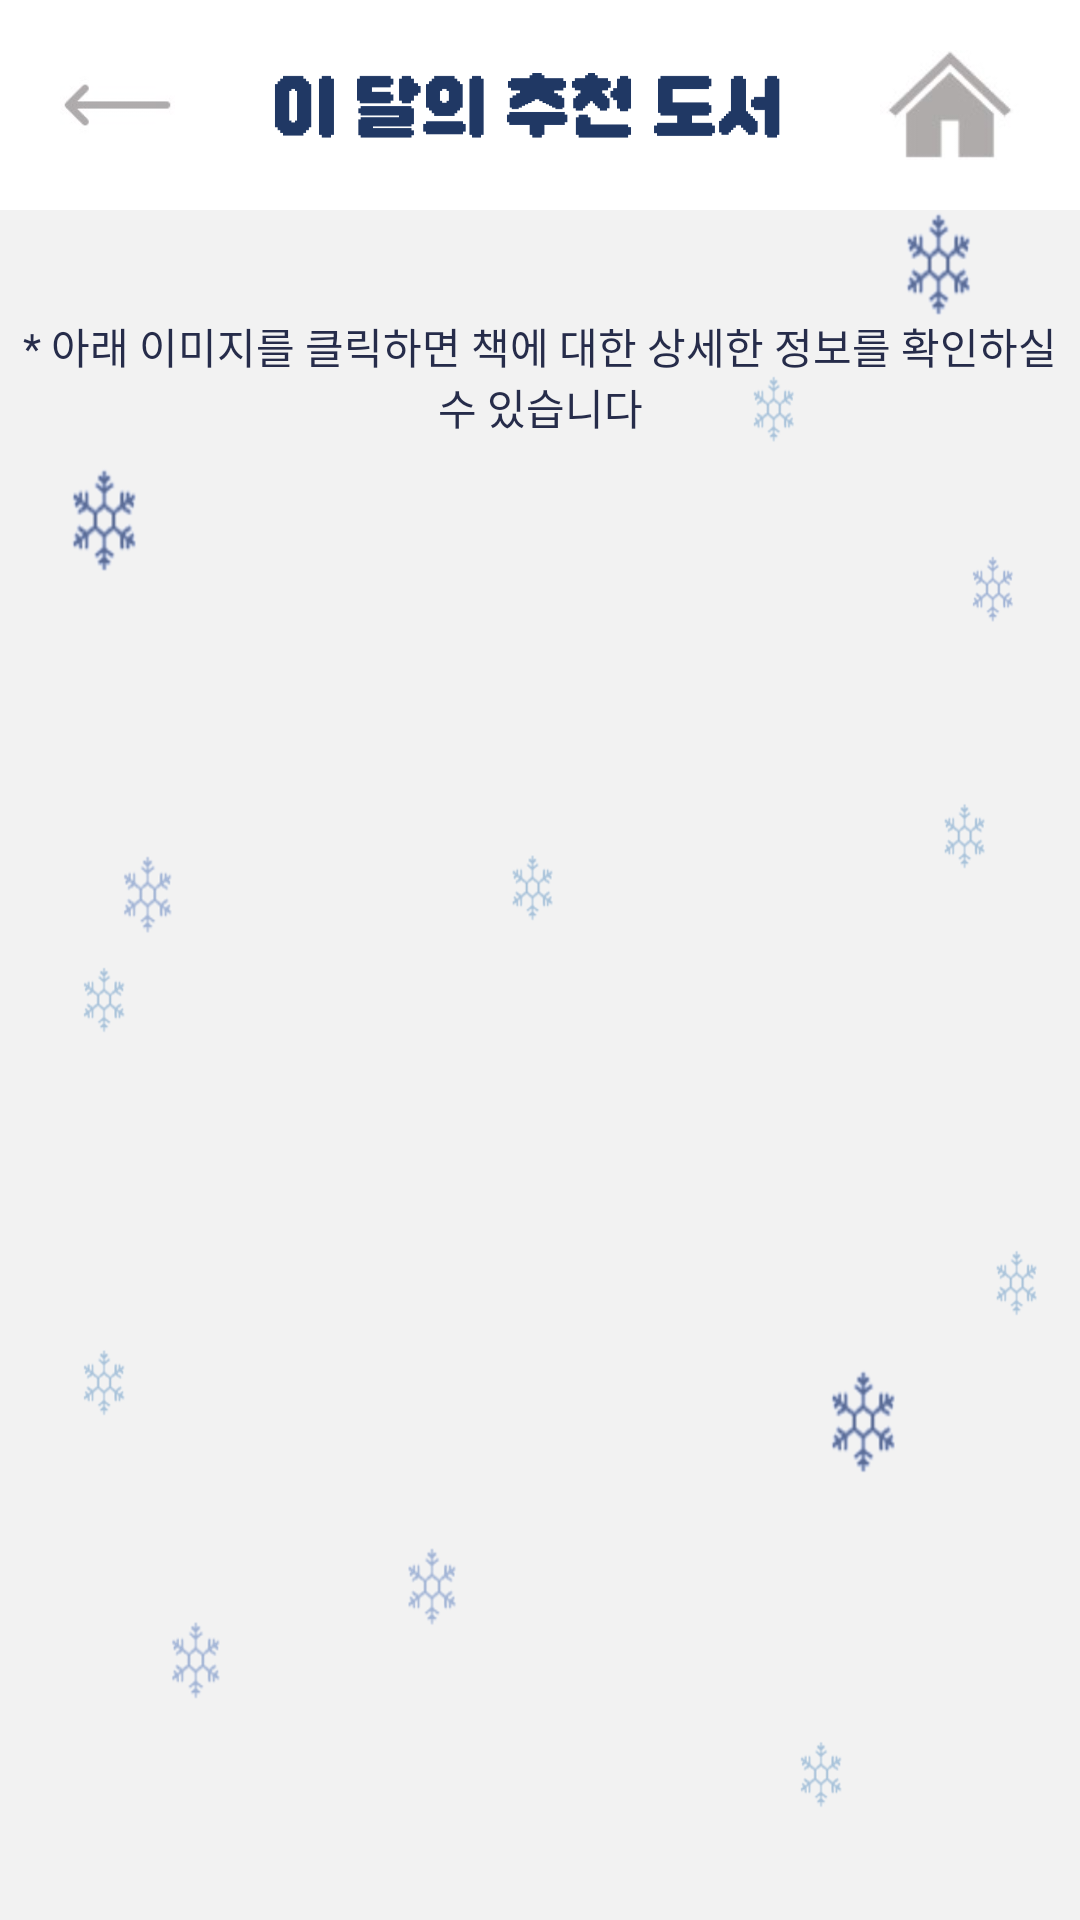

Named icons in this screenshot (1080w x 1920h) and their bounding boxes, BBox(x1, y1, x2, y2):
back: BBox(65, 84, 170, 126)
home: BBox(889, 52, 1011, 157)
